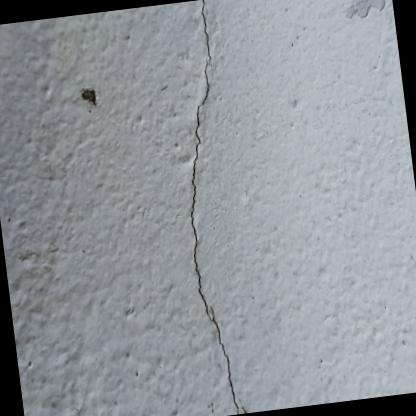crack: (189, 0, 245, 414)
